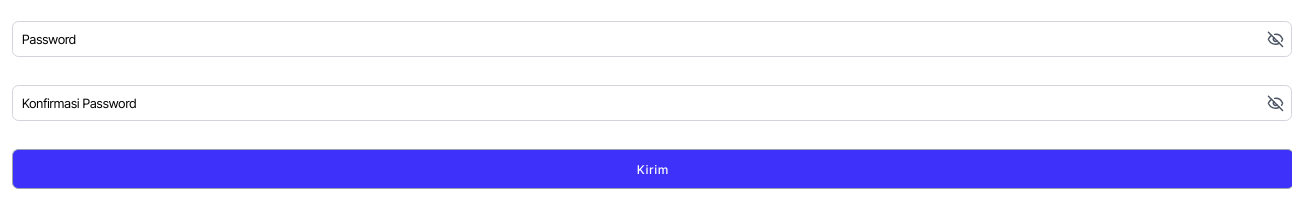
Test case: ResetPasswordView › should show error message when passwords do not match
Type "password123" into the password field labelled "Password".
click(652, 39); type("password123")  # box [12,21,1292,57]
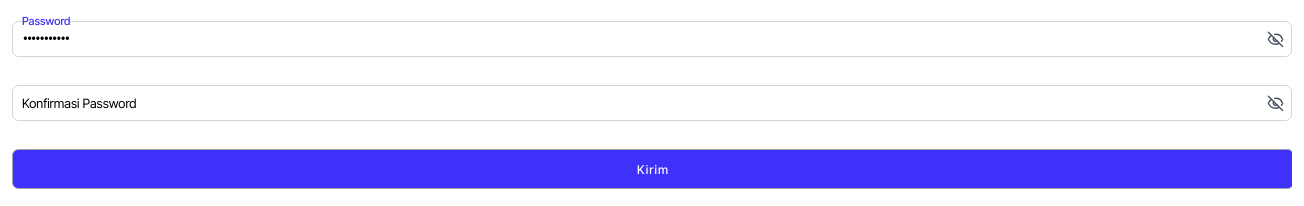
Type "differentPassword" into the password field labelled "Konfirmasi Password".
click(652, 103); type("differentPassword")  # box [12,85,1292,121]
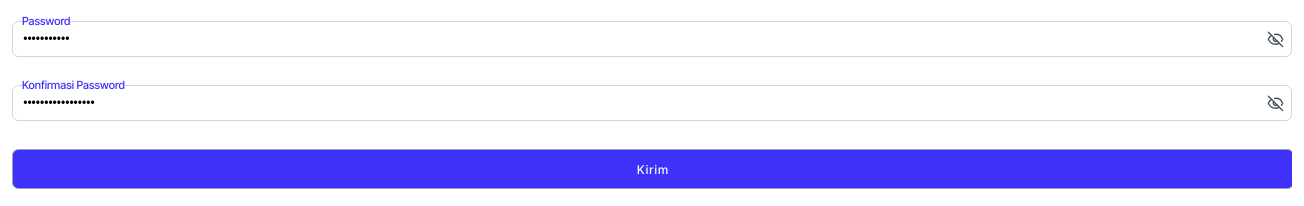
Click the button "Kirim".
click(652, 169)  # box [12,149,1292,189]
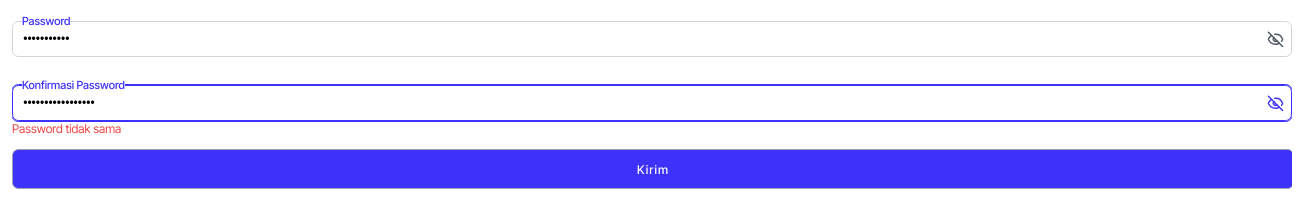
expect the text "Password tidak sama" is shown: met, box [12,121,121,136]
